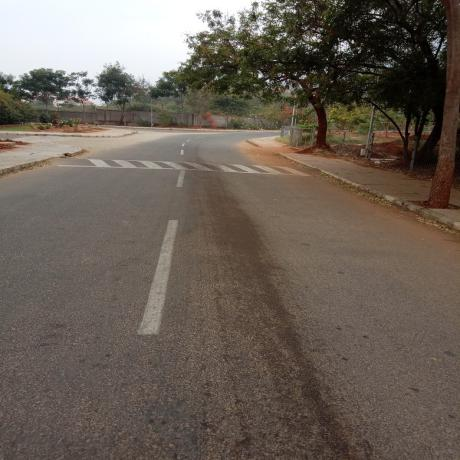Speed Bump: (49, 158, 308, 175)
